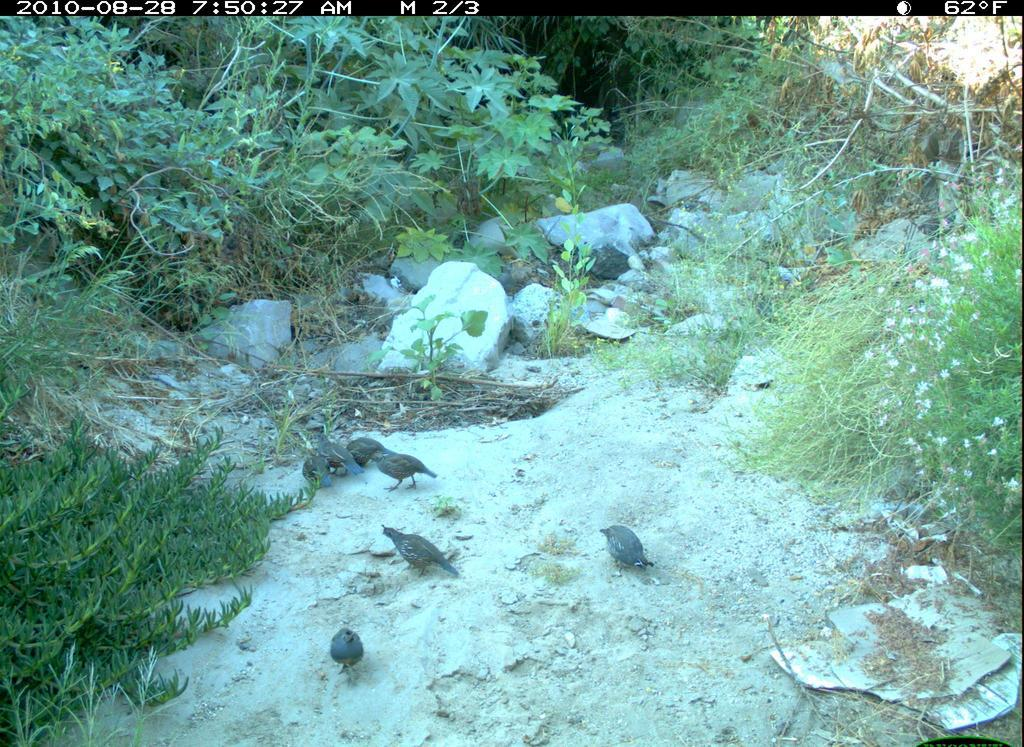bird: (378, 523, 463, 582), (594, 511, 658, 580), (370, 449, 445, 496), (326, 617, 372, 678), (342, 431, 395, 481), (300, 443, 336, 501)
